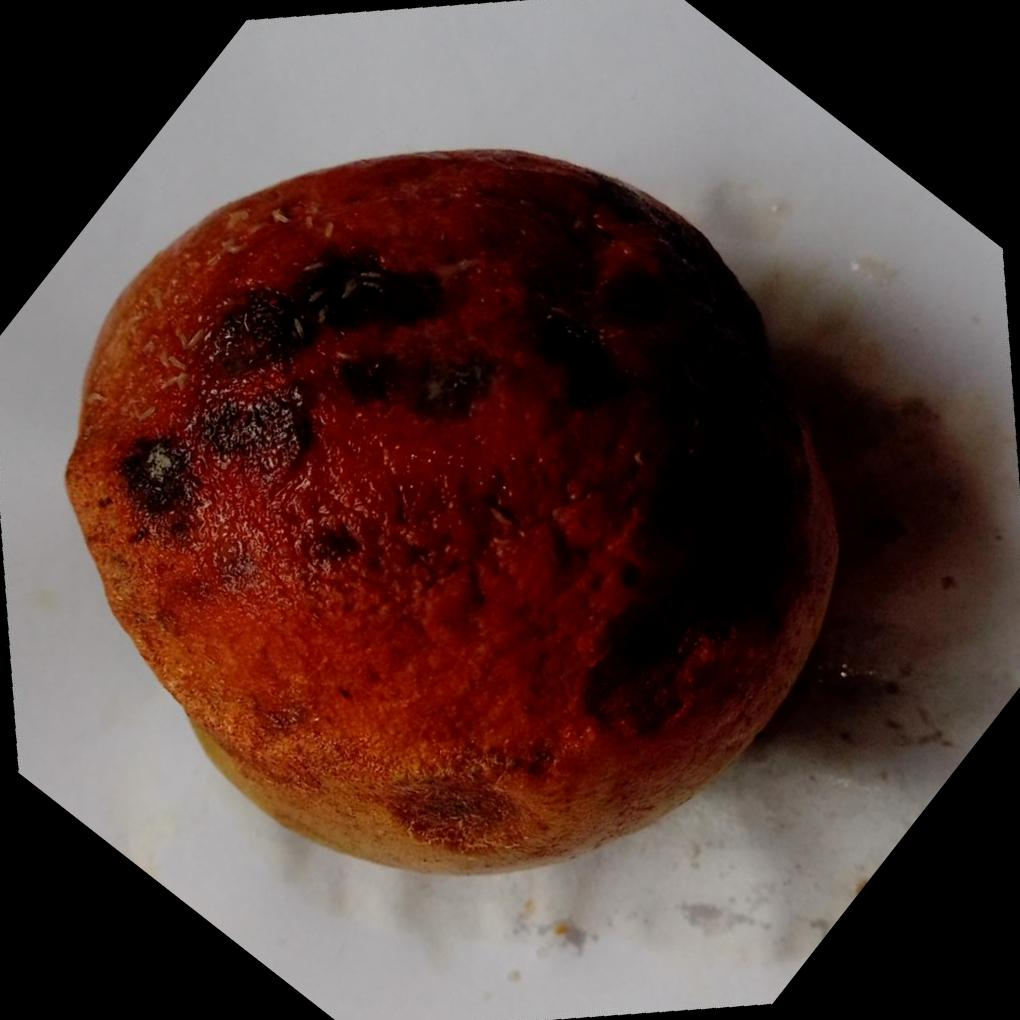FreshOrange: (63, 148, 847, 879)
